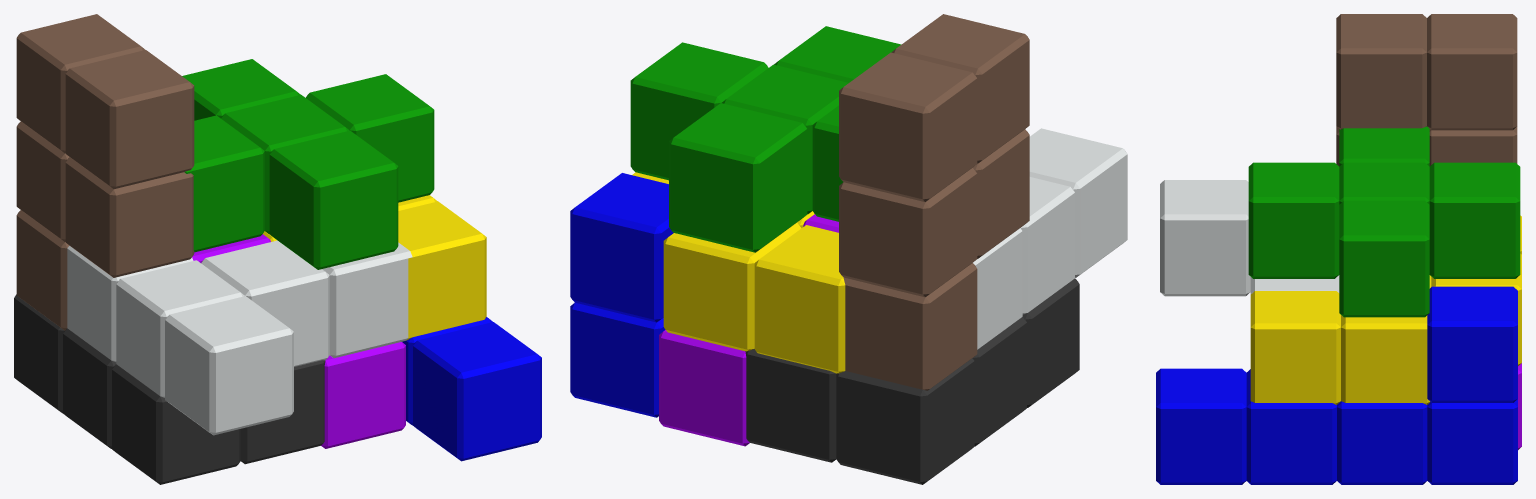
File: Figur1.glb
The picture shows the model from 3 angles, left to right: view 1: azimuth 30°, elevation 25°; view 2: azimuth 150°, elevation 25°; view 3: azimuth 270°, elevation 25°; orthographic projection. The views are drawn at different scales.
Visible parts, largest first — view 1: Cube.026, Cube.011, Cube.041, Cube.046, Cube.009, Cube.051, Cube.032, Cube.027, Cube.024, Cube.010, Cube.044, Cube.043 (+12 smaller); view 2: Cube.028, Cube.010, Cube.007, Cube.034, Cube.008, Cube.038, Cube.053, Cube.049, Cube.024, Cube.011, Cube.037, Cube.046 (+10 smaller); view 3: Cube.026, Cube.028, Cube.024, Cube.010, Cube.041, Cube.038, Cube.011, Cube.046, Cube.051, Cube.039, Cube.050, Cube.037 (+6 smaller).
Part boxes in pixels (x1,y1,x2,y2): Cube.026: (269,130,398,269); Cube.011: (65,50,194,189); Cube.041: (413,322,541,461); Cube.046: (165,296,293,435); Cube.009: (65,157,194,277); Cube.051: (398,201,486,340); Cube.032: (112,364,240,484); Cube.027: (184,115,264,252); Cube.024: (306,74,434,202); Cube.010: (16,14,145,153); Cube.044: (201,240,329,366); Cube.043: (116,260,244,397); Cube.028: (669,103,807,252); Cube.010: (839,52,977,201); Cube.007: (839,167,977,297); Cube.034: (836,358,974,484); Cube.008: (843,263,977,390); Cube.038: (570,173,673,322); Cube.053: (754,225,845,373); Cube.049: (663,222,801,351); Cube.024: (630,42,768,180); Cube.011: (891,14,1029,163); Cube.037: (570,302,665,417); Cube.046: (1029,128,1127,277); Cube.026: (1248,162,1339,278); Cube.028: (1429,162,1520,278); Cube.024: (1339,200,1429,317); Cube.010: (1427,14,1517,130); Cube.041: (1156,368,1246,484); Cube.038: (1427,286,1517,402); Cube.011: (1336,14,1426,129); Cube.046: (1160,180,1250,296); Cube.051: (1250,291,1340,404); Cube.039: (1246,369,1336,484); Cube.050: (1341,315,1430,404); Cube.037: (1427,399,1517,484).
Size of the model in its own units: 7.9 by 8 by 8.09.
